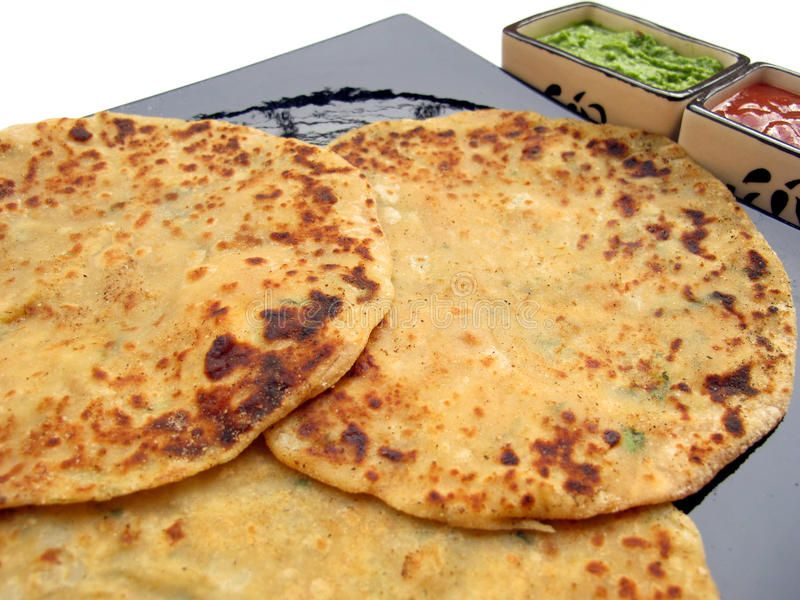aloo_paratha: (1, 105, 797, 600)
